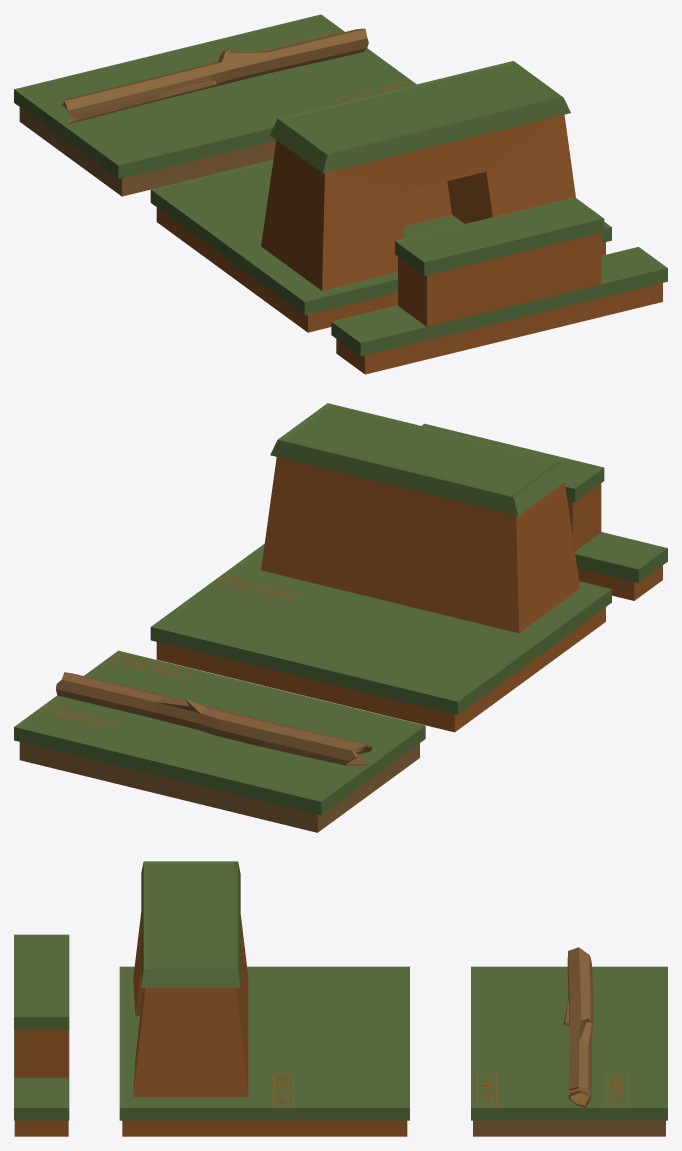
The model's file is Level1.glb.
3 renders of one model, top to bottom at view 1: azimuth 30°, elevation 25°; view 2: azimuth 150°, elevation 25°; view 3: azimuth 270°, elevation 25°, orthographic. The views are drawn at different scales.
Parts seen in each view (by area): view 1: Cube.001, Cube.004, Cube.006, Cube, Cube.005, Log_big_knotty; view 2: Cube.001, Cube, Cube.004, Log_big_knotty, Cube.005, Cube.006; view 3: Cube, Cube.004, Cube.001, Cube.006, Log_big_knotty, Cube.005.
Boxes of the visible parts, x1=… form: Cube.001: x1=261, y1=61, x2=575, y2=290; Cube.004: x1=14, y1=14, x2=416, y2=196; Cube.006: x1=395, y1=197, x2=604, y2=326; Cube: x1=150, y1=159, x2=611, y2=332; Cube.005: x1=331, y1=247, x2=667, y2=374; Log_big_knotty: x1=61, y1=28, x2=368, y2=124; Cube.001: x1=261, y1=403, x2=579, y2=633; Cube: x1=150, y1=544, x2=611, y2=732; Cube.004: x1=14, y1=650, x2=425, y2=832; Log_big_knotty: x1=56, y1=672, x2=372, y2=765; Cube.005: x1=575, y1=532, x2=667, y2=600; Cube.006: x1=421, y1=423, x2=604, y2=551; Cube: x1=119, y1=966, x2=409, y2=1136; Cube.004: x1=471, y1=966, x2=667, y2=1136; Cube.001: x1=133, y1=861, x2=248, y2=1096; Cube.006: x1=14, y1=934, x2=69, y2=1077; Log_big_knotty: x1=563, y1=947, x2=593, y2=1107; Cube.005: x1=14, y1=1030, x2=69, y2=1136.
Bounding box in the file's own units: 19.76 × 9.95 × 38.64.
